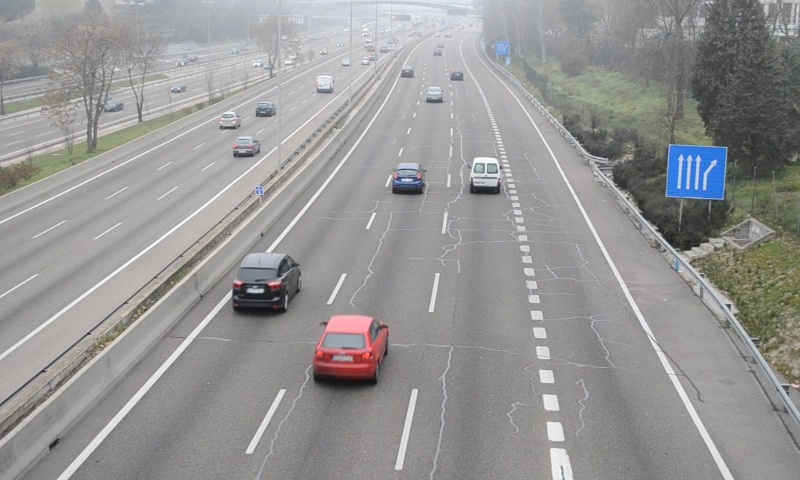car: (313, 315, 388, 380), (232, 253, 299, 312), (392, 161, 424, 191), (425, 85, 444, 103), (450, 66, 465, 82)
van: (469, 156, 501, 192)
